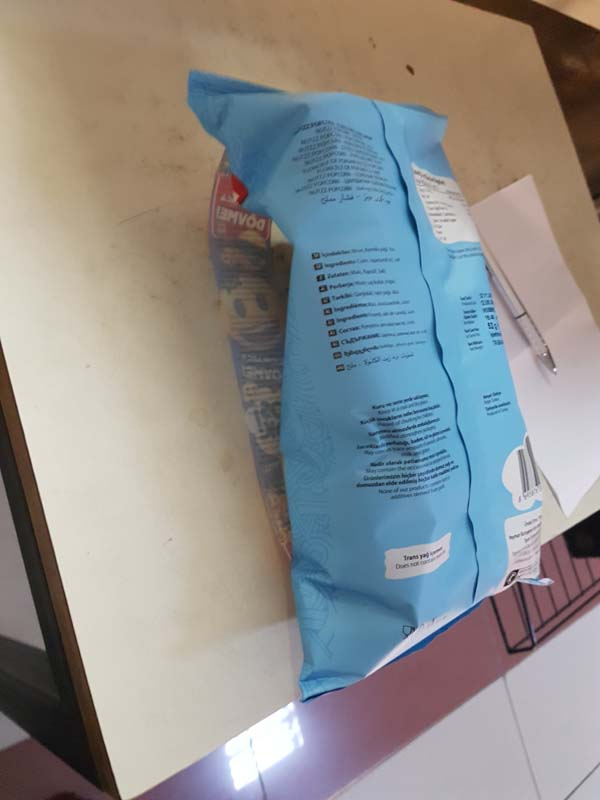popcorn: (185, 57, 563, 710)
